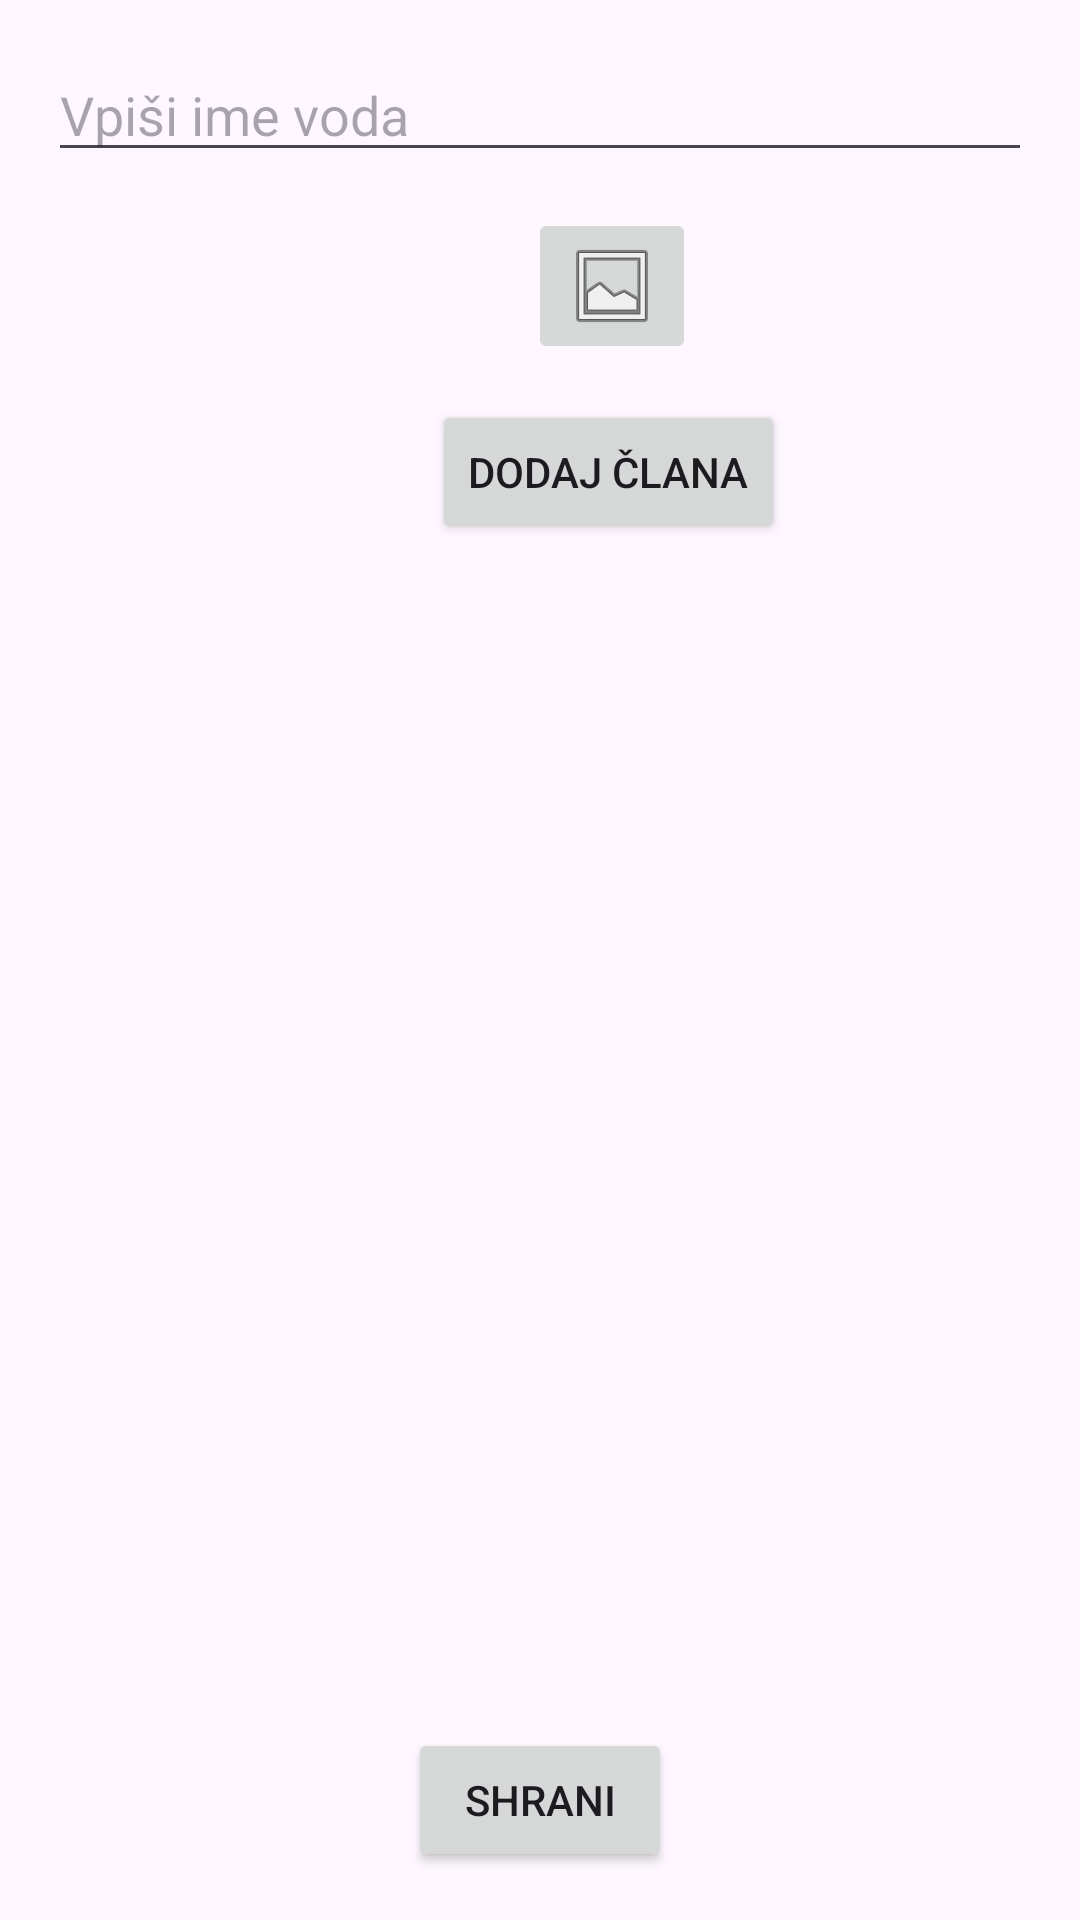

Point at icon controls on the screen. Image size 1080 x 1920, points as [x,y].
gallery: [612,286]
